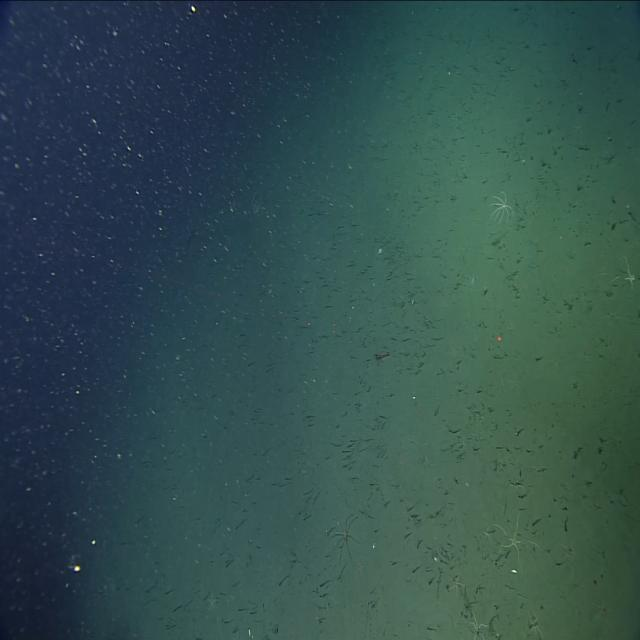Brittle Star: (489, 508, 540, 574), (612, 251, 640, 296), (464, 605, 491, 639)
